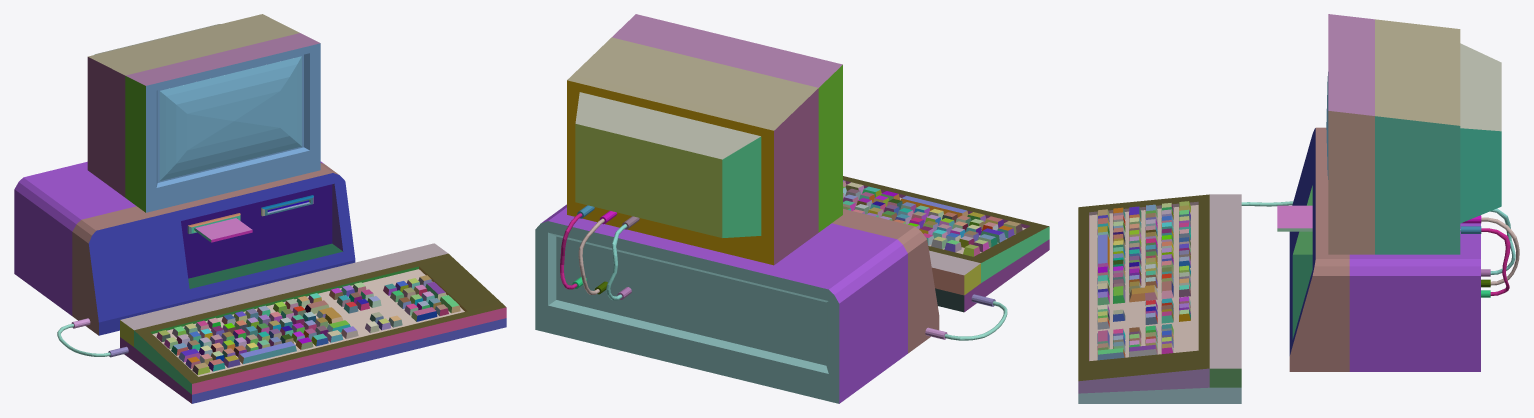
3 views of the same model, side by side, from view 1: azimuth 30°, elevation 25°; view 2: azimuth 150°, elevation 25°; view 3: azimuth 270°, elevation 25° (orthographic). The views are drawn at different scales.
Parts seen in each view (by area): view 1: world; view 2: world; view 3: world.
Part boxes in pixels (left/top/right/bottom): world: left=14, top=14, right=506, bottom=403; world: left=535, top=14, right=1049, bottom=403; world: left=1078, top=14, right=1519, bottom=403.
Bounding box in the file's own units: 2 × 1.2 × 1.9.
